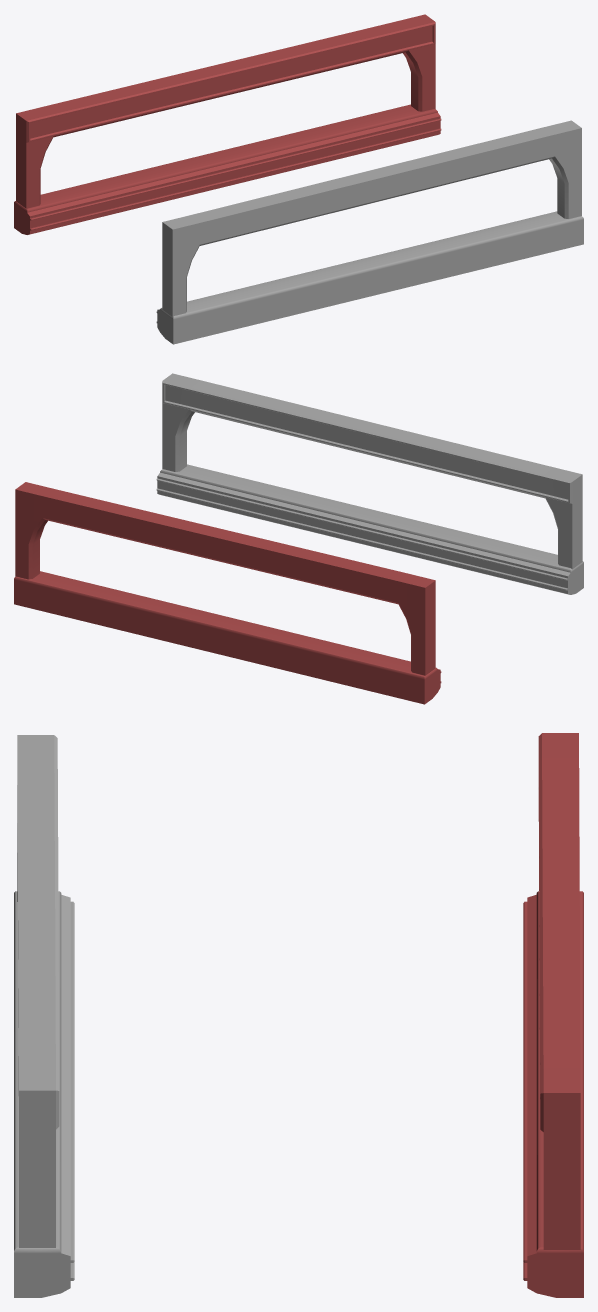
File: Msh_BalconSpectacle.fbx
3 renders of one model, top to bottom at view 1: azimuth 30°, elevation 25°; view 2: azimuth 150°, elevation 25°; view 3: azimuth 270°, elevation 25°, orthographic. The views are drawn at different scales.
Parts seen in each view (by area): view 1: pCube65, pCube7; view 2: pCube7, pCube65; view 3: pCube7, pCube65.
Boxes of the visible parts, x1,y1,x2,y2 form: pCube65: [156, 120, 583, 344]; pCube7: [14, 14, 441, 234]; pCube7: [14, 482, 441, 704]; pCube65: [156, 373, 583, 594]; pCube7: [523, 733, 583, 1297]; pCube65: [14, 735, 74, 1297].
Bounding box in the file's own units: 124 × 83.46 × 33.4.
